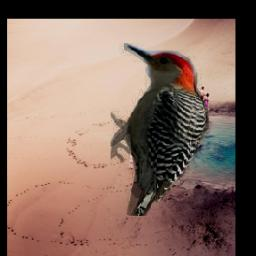Woodpecker: (111, 44, 209, 217)
